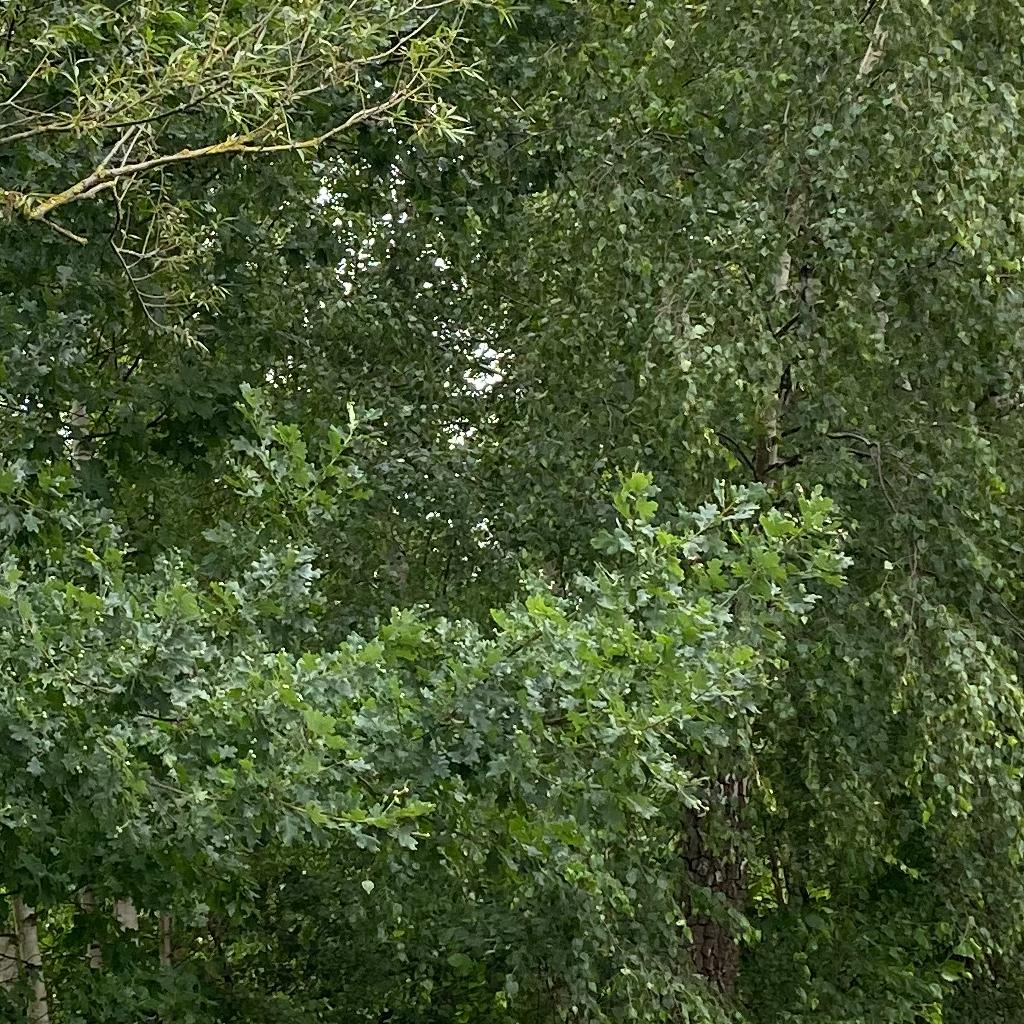tree: (1, 1, 856, 1023), (234, 1, 1024, 1023), (487, 1, 1023, 1023)
